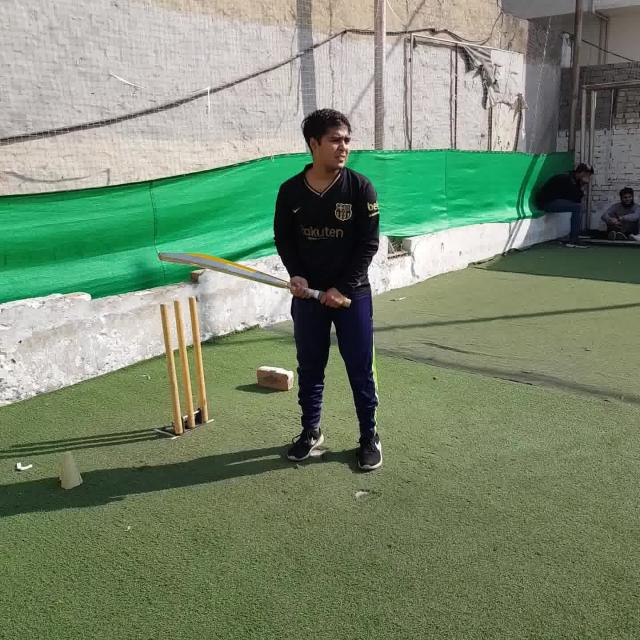bat: (157, 252, 351, 308)
